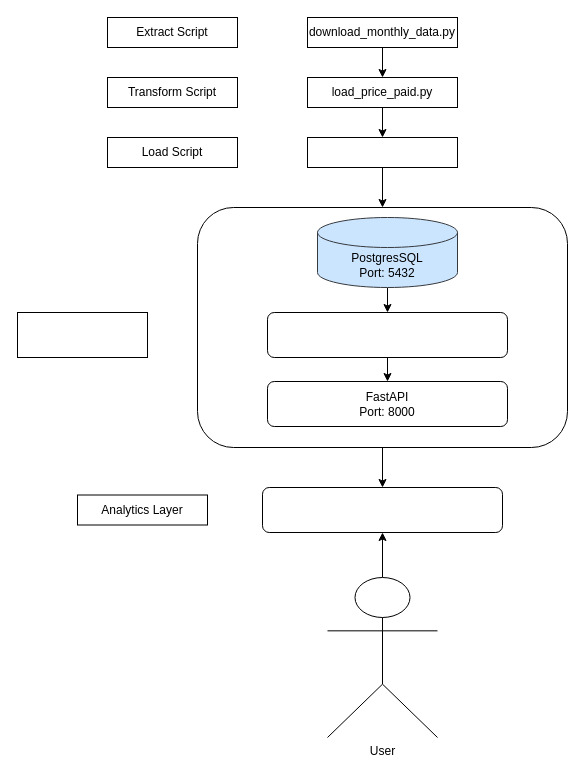
Some shapes in this 585 by 776 pixel diagram are drawn without their labels. Here are the shapes that lost their labels. From the top down, the centre of each, then its label:
At point (382, 152): "create_tables.py".
At point (82, 335): "Database Layer (Docker Platform)".
At point (387, 335): "pgAdmin".
At point (382, 509): "Streamlit Dashboard Port: 8501".
